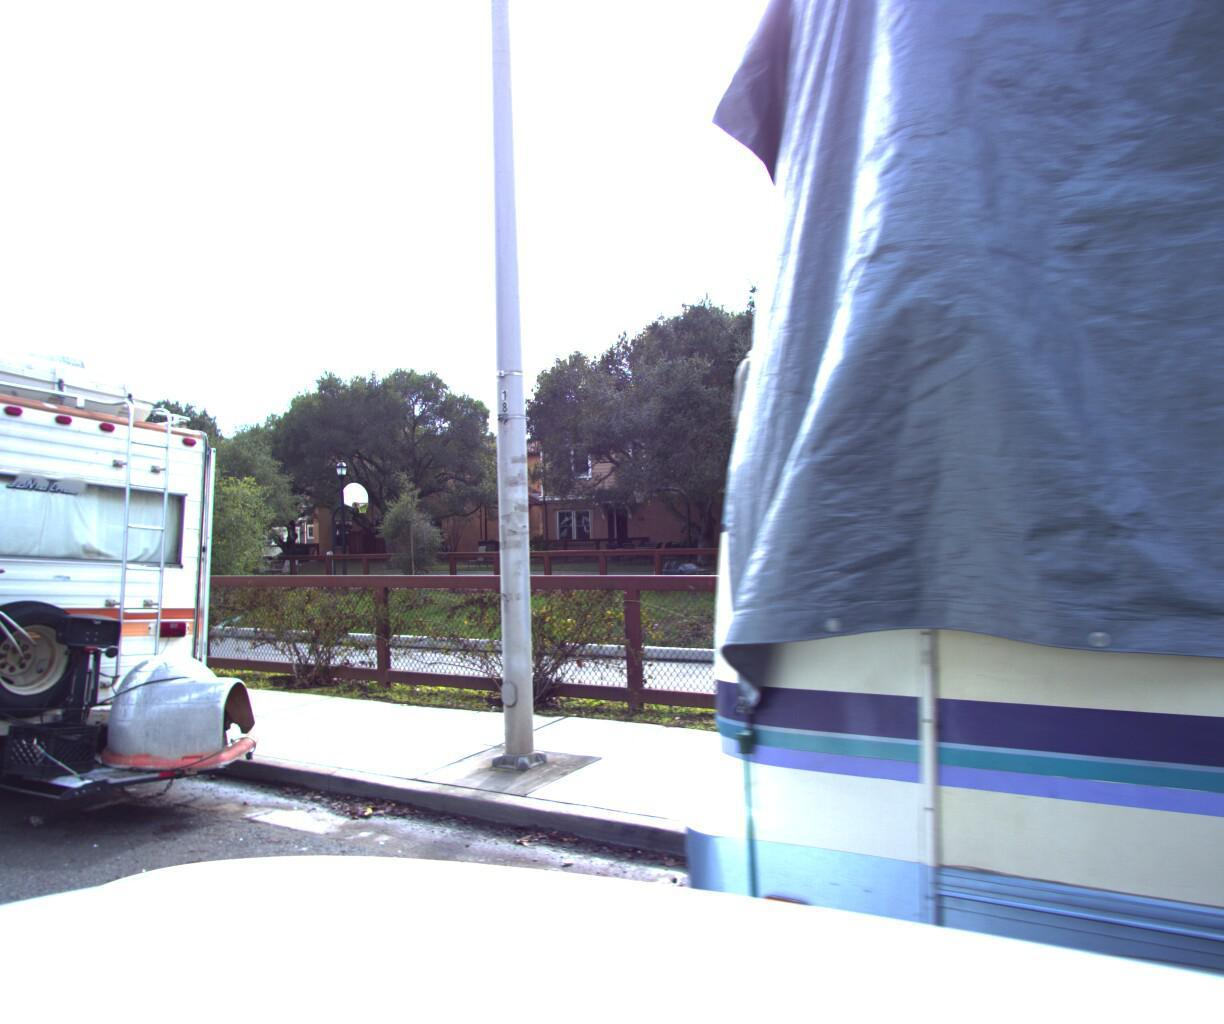other_vehicle: (0, 266, 357, 930)
